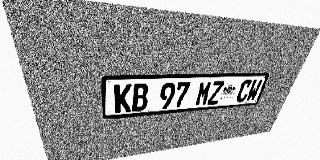7: (173, 82, 191, 108)
9: (159, 82, 176, 109)
B: (132, 83, 149, 112)
C: (235, 80, 253, 103)
K: (114, 84, 132, 113)
M: (195, 81, 213, 106)
W: (245, 79, 263, 102)
Z: (207, 81, 225, 105)
